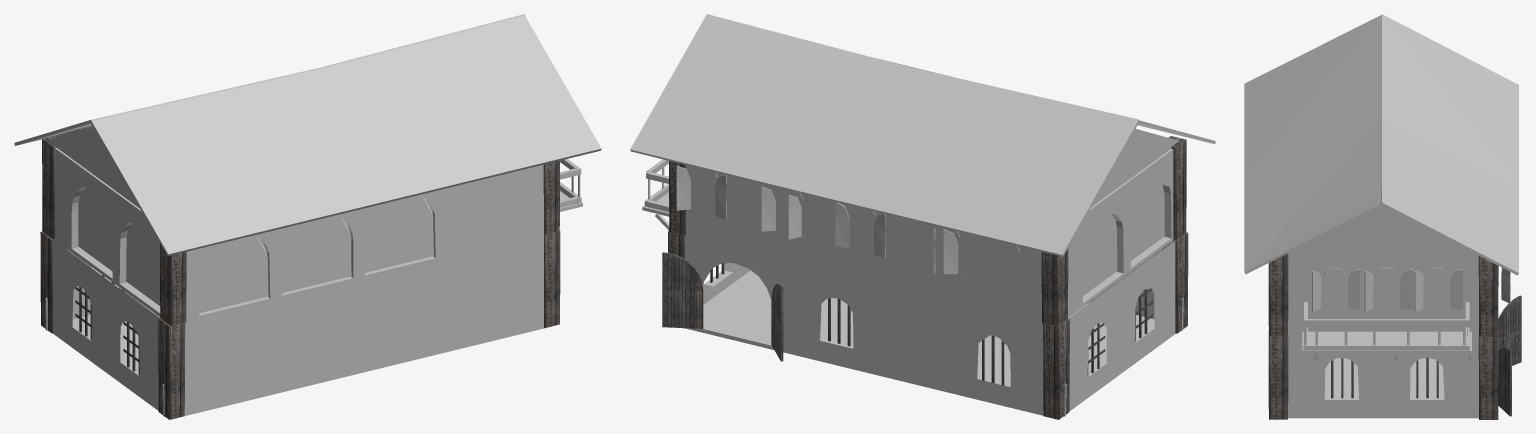
File: tavern_storage_house_LOD1.dae
3 renders of one model, left to right at view 1: azimuth 30°, elevation 25°; view 2: azimuth 150°, elevation 25°; view 3: azimuth 270°, elevation 25°, orthographic. The views are drawn at different scales.
Visible parts, largest first — view 1: DefaultLib2_roof_01, Material2, DefaultLib2_dorwindow_set, DefaultLib1_WoodPlanks_ornaments, DefaultLib2_WoodPlanks; view 2: DefaultLib2_roof_01, Material2, DefaultLib1_WoodPlanks_ornaments, DefaultLib2_dorwindow_set, DefaultLib2_WoodPlanks; view 3: DefaultLib2_roof_01, Material2, DefaultLib1_WoodPlanks_ornaments, DefaultLib2_dorwindow_set, DefaultLib2_WoodPlanks.
Boxes of the visible parts, <box> form: DefaultLib2_roof_01: <box>14,14,601,256</box>; Material2: <box>48,128,554,415</box>; DefaultLib2_dorwindow_set: <box>78,187,433,312</box>; DefaultLib1_WoodPlanks_ornaments: <box>40,135,560,419</box>; DefaultLib2_WoodPlanks: <box>45,126,582,416</box>; DefaultLib2_roof_01: <box>630,14,1215,256</box>; Material2: <box>685,129,1178,415</box>; DefaultLib1_WoodPlanks_ornaments: <box>662,136,1188,419</box>; DefaultLib2_dorwindow_set: <box>676,165,1164,295</box>; DefaultLib2_WoodPlanks: <box>642,149,1183,416</box>; DefaultLib2_roof_01: <box>1244,14,1518,275</box>; Material2: <box>1288,206,1478,418</box>; DefaultLib1_WoodPlanks_ornaments: <box>1268,253,1521,419</box>; DefaultLib2_dorwindow_set: <box>1312,267,1510,311</box>; DefaultLib2_WoodPlanks: <box>1302,302,1471,360</box>.
Size of the model in its own units: 26.58 by 14.65 by 16.01.
